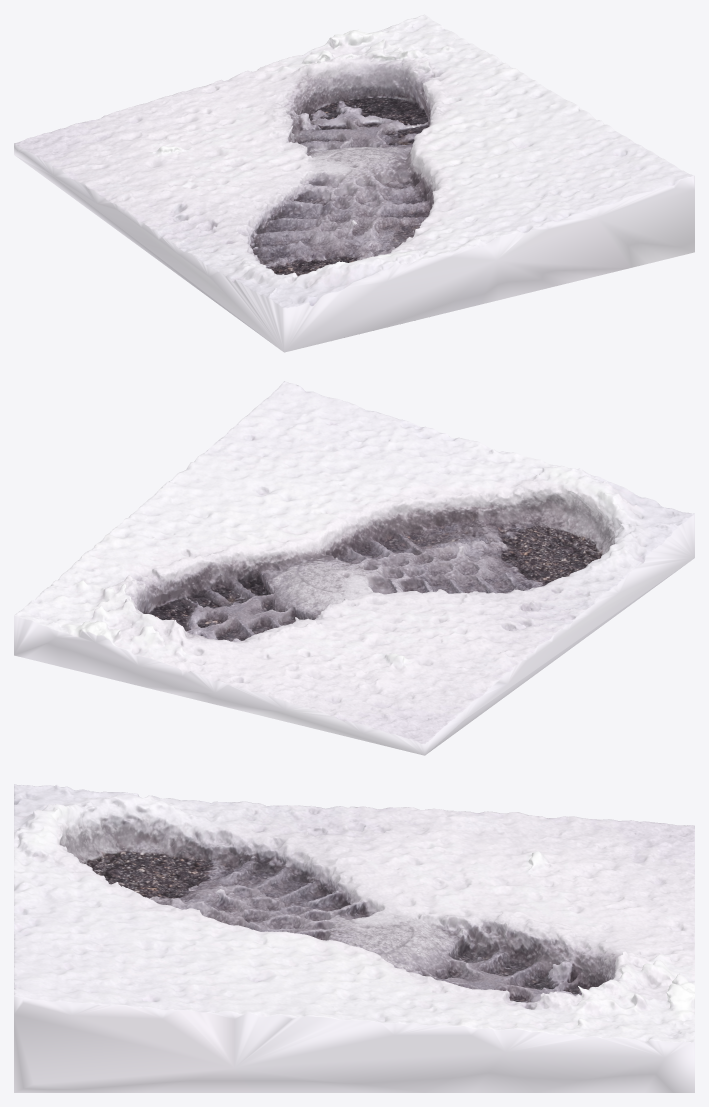
The model's file is footprint_boot_in_snow_on_asphalt.glb.
3 views of the same model, one above another, from view 1: azimuth 30°, elevation 25°; view 2: azimuth 150°, elevation 25°; view 3: azimuth 270°, elevation 25° (orthographic). The views are drawn at different scales.
Parts seen in each view (by area): view 1: Object_2, Object_3; view 2: Object_2, Object_3; view 3: Object_2, Object_3.
Boxes of the visible parts, x1,y1,x2,y2 form: Object_2: [14, 14, 694, 352]; Object_3: [33, 47, 694, 308]; Object_2: [14, 381, 694, 755]; Object_3: [67, 381, 694, 730]; Object_2: [14, 785, 694, 1092]; Object_3: [14, 784, 694, 1034].
Size of the model in its own units: 36.22 by 6.45 by 41.26.
Materials: 1 (1 with a texture image).
